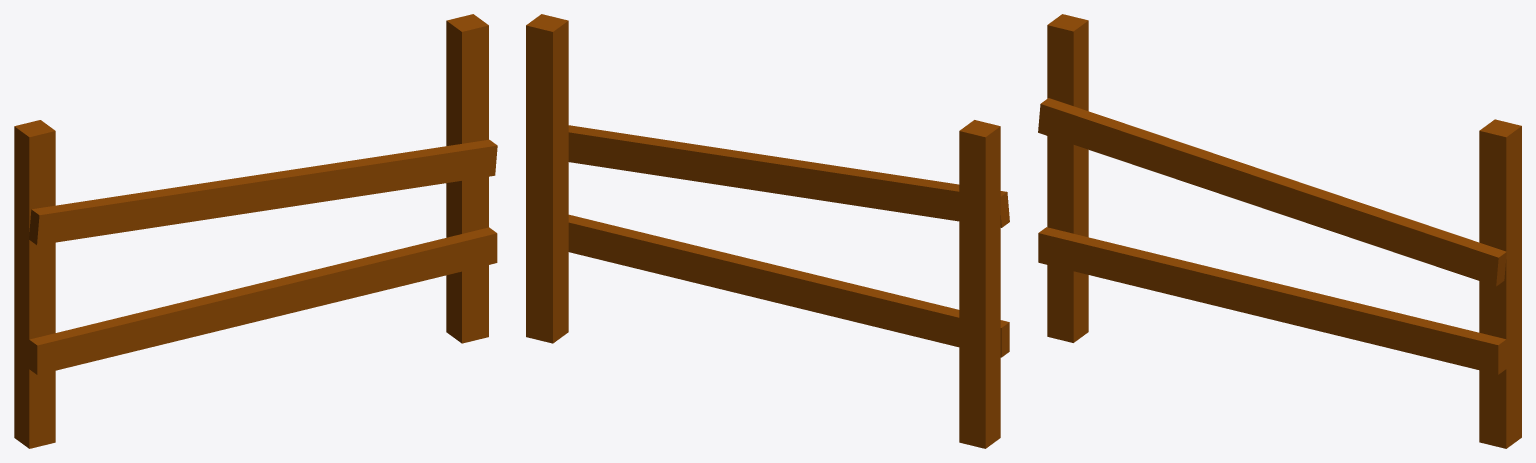
File: baricate4.glb
The picture shows the model from 3 angles, left to right: view 1: azimuth 30°, elevation 25°; view 2: azimuth 150°, elevation 25°; view 3: azimuth 330°, elevation 25°; orthographic projection.
Visible parts, largest first — view 1: Cube.005; view 2: Cube.005; view 3: Cube.005.
Part boxes in pixels (left/top/right/bottom): Cube.005: left=14, top=14, right=497, bottom=448; Cube.005: left=526, top=14, right=1009, bottom=448; Cube.005: left=1038, top=14, right=1521, bottom=448.
Size of the model in its own units: 1.55 by 1 by 0.1388.
